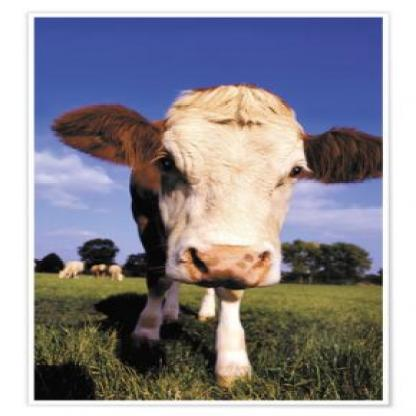lower: (196, 278, 260, 284)
mouth: (161, 235, 285, 287)
upper: (189, 250, 266, 276)
